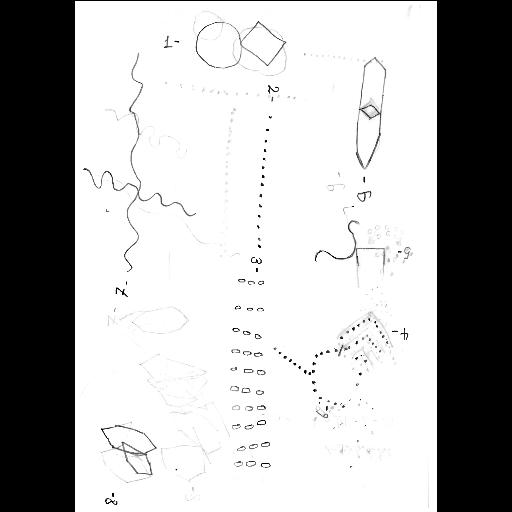shape-1: (194, 18, 290, 68)
shape-2: (256, 94, 276, 248)
shape-3: (230, 277, 272, 467)
shape-4: (338, 316, 396, 376)
shape-5: (316, 220, 384, 266)
shape-6: (272, 346, 340, 408)
shape-7: (84, 52, 198, 272)
shape-8: (102, 424, 158, 474)
shape-9: (353, 55, 387, 169)
